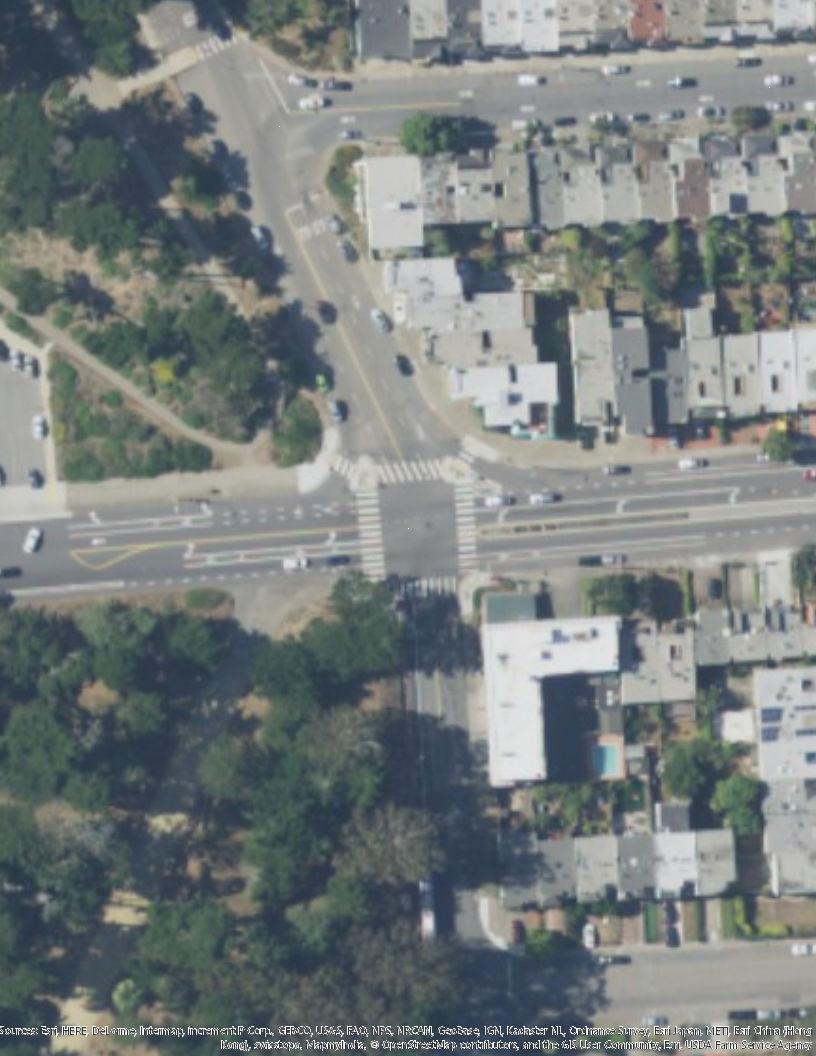zebracross: (354, 489, 388, 583), (449, 477, 480, 576), (191, 24, 236, 61), (392, 576, 460, 600), (379, 461, 451, 482), (331, 454, 354, 482), (457, 445, 476, 465)
